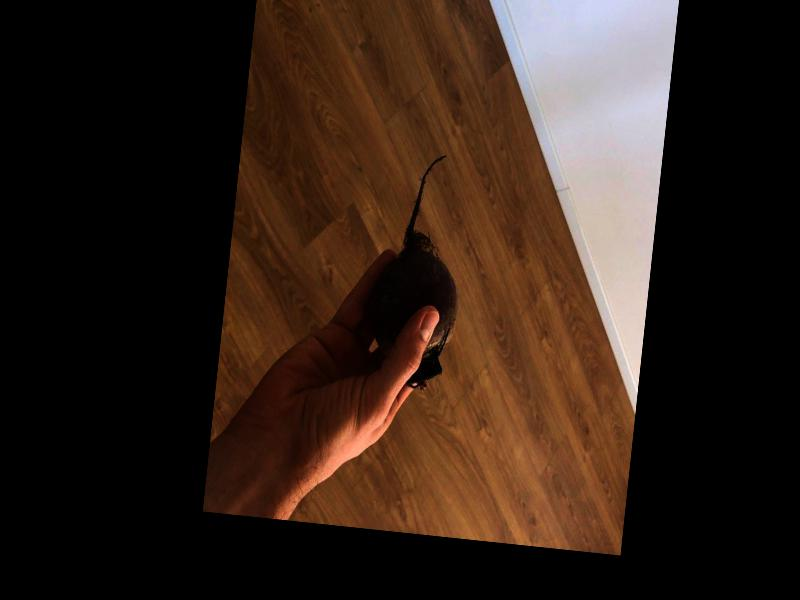Beet: (363, 148, 472, 391)
